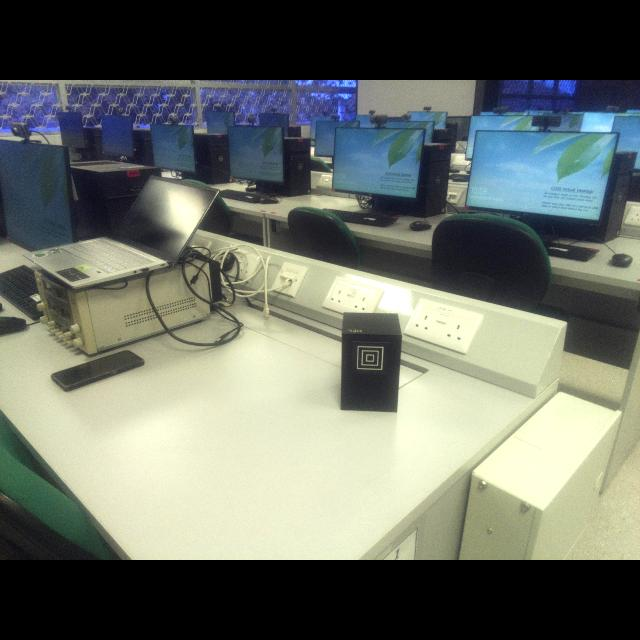BULLSEYE: (356, 346, 384, 371)
